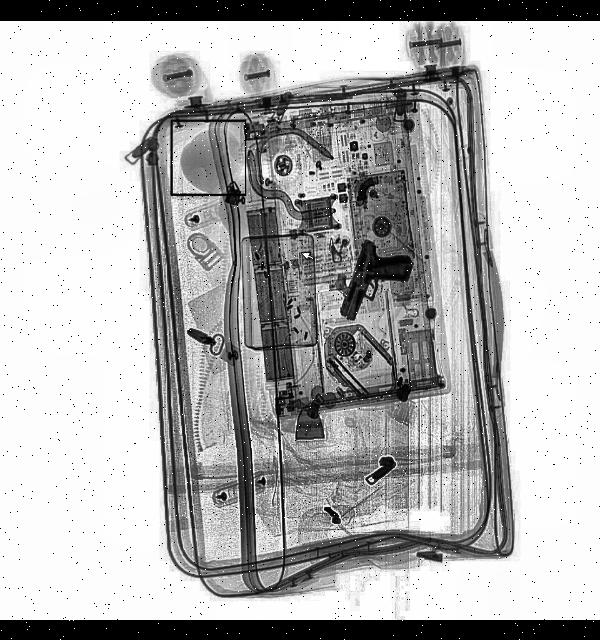Gun: (338, 238, 414, 332)
